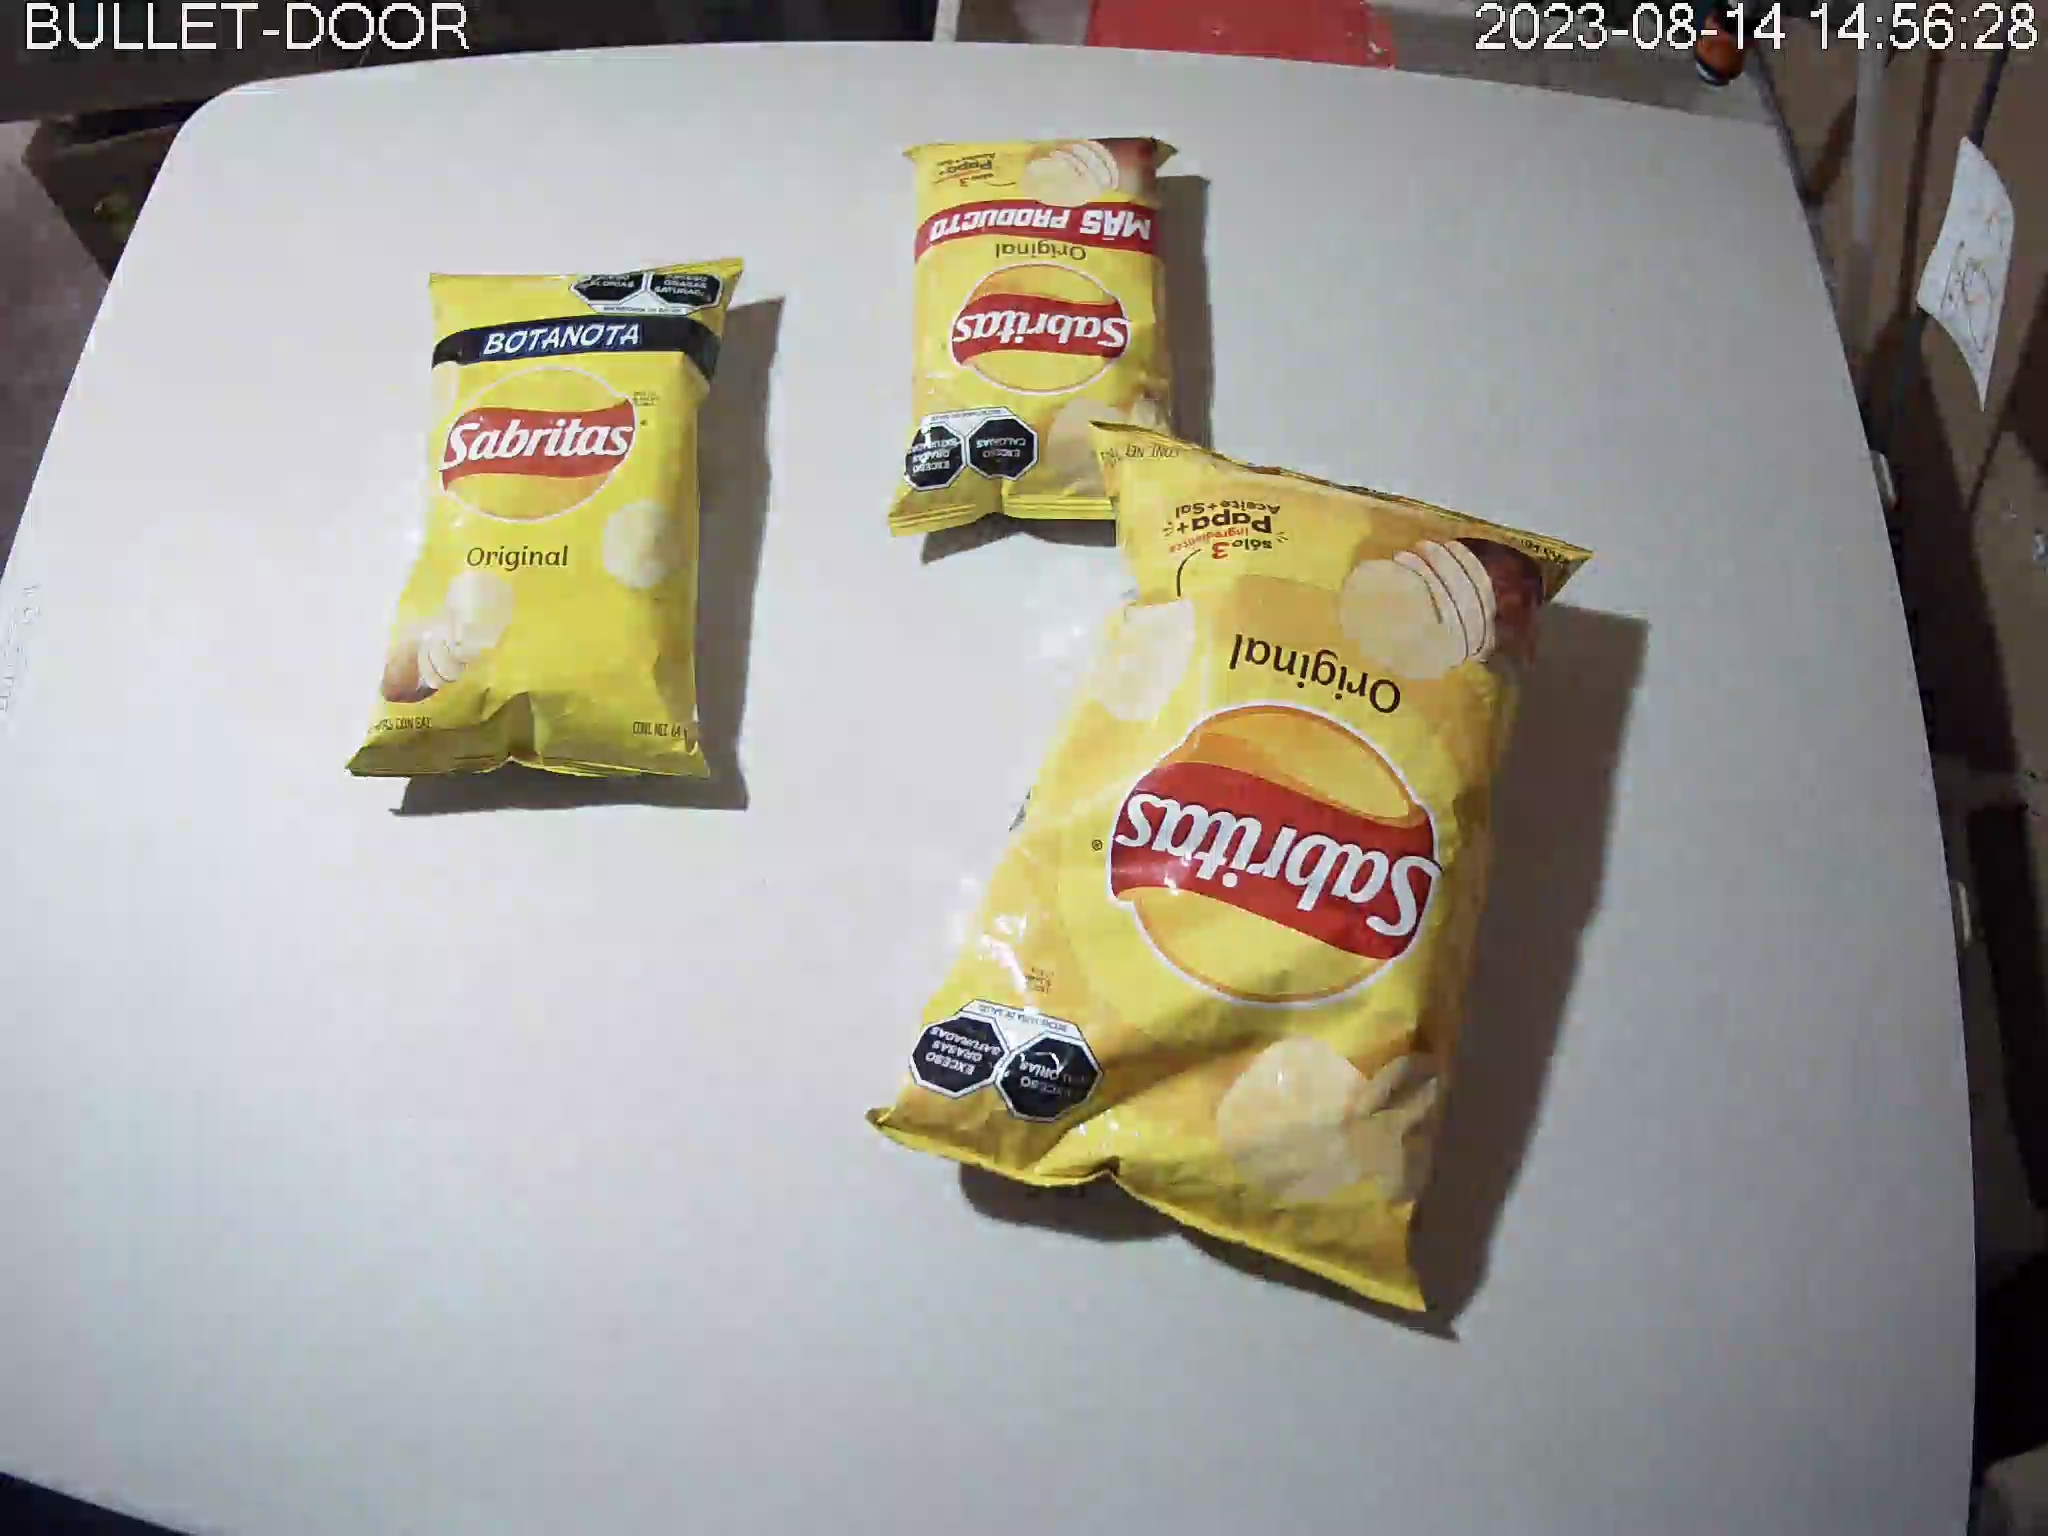Sabritas_160_F: (861, 423, 1596, 1318)
Sabritas_45_F: (889, 129, 1200, 529)
Sabritas_64_F: (340, 255, 742, 792)
